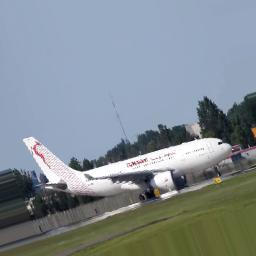Airplane: (21, 136, 233, 197)
